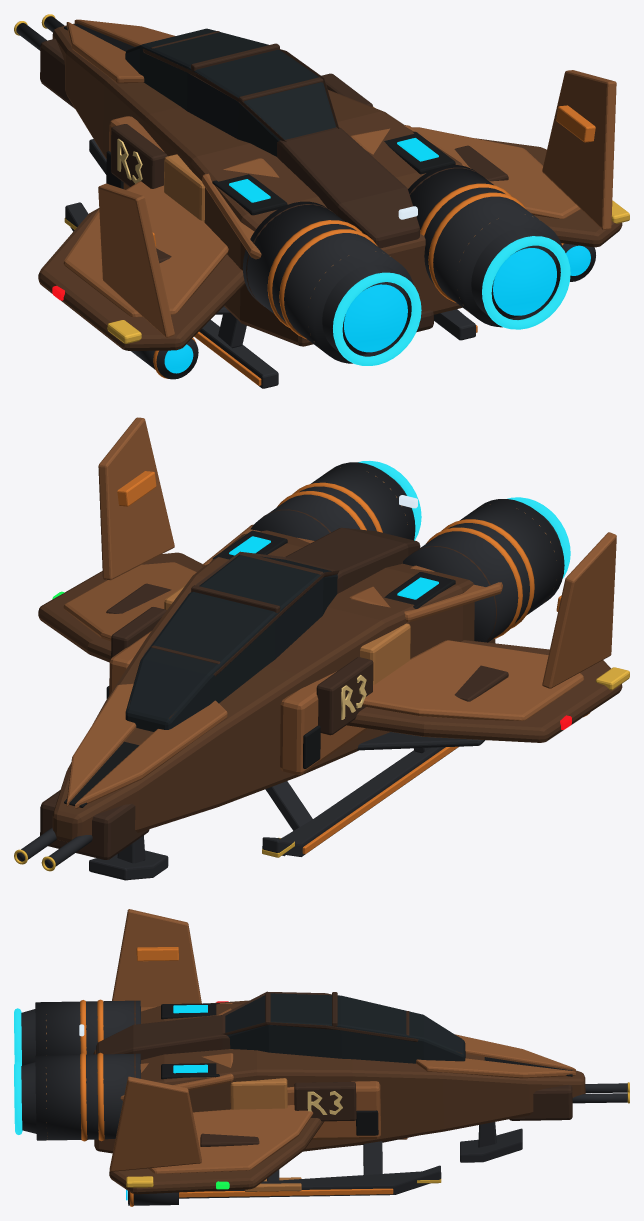
The model's file is raider3.glb.
3 views of the same model, one above another, from view 1: azimuth 30°, elevation 25°; view 2: azimuth 150°, elevation 25°; view 3: azimuth 270°, elevation 25° (orthographic). The views are drawn at different scales.
Visible parts, largest first — view 1: Static_Raider3BrownArmor, Static_Raider3UmberHull, Static_EngineIron, Static_Raider3DarkArmor, Canopy, Static_Raider3BurntOrange, ThrusterR, ThrusterL, Static_Raider3Recess, AfterburnerR, AfterburnerL, Static_Raider3WarmArmor (+5 smaller); view 2: Static_Raider3BrownArmor, Static_Raider3UmberHull, Static_EngineIron, Canopy, Static_Raider3DarkArmor, Static_Raider3BurntOrange, Static_Raider3Recess, Static_Raider3WarmArmor, Static_SystemsGlow, Static_Raider3OchreDetail, AfterburnerL, AfterburnerR; view 3: Static_Raider3BrownArmor, Static_Raider3UmberHull, Static_EngineIron, Canopy, Static_Raider3DarkArmor, Static_Raider3BurntOrange, Static_Raider3WarmArmor, Static_Raider3Recess, AfterburnerR, Static_SystemsGlow, Static_Raider3OchreDetail, AfterburnerL.
Boxes of the visible parts, bbox=[...] form: Static_Raider3BrownArmor: bbox=[63, 19, 616, 337]; Static_Raider3UmberHull: bbox=[38, 23, 622, 350]; Static_EngineIron: bbox=[16, 16, 595, 388]; Static_Raider3DarkArmor: bbox=[40, 31, 508, 332]; Canopy: bbox=[125, 28, 335, 156]; Static_Raider3BurntOrange: bbox=[152, 105, 595, 385]; ThrusterR: bbox=[493, 248, 556, 315]; ThrusterL: bbox=[344, 284, 407, 352]; Static_Raider3Recess: bbox=[64, 23, 455, 215]; AfterburnerR: bbox=[482, 236, 570, 329]; AfterburnerL: bbox=[333, 272, 421, 365]; Static_Raider3WarmArmor: bbox=[164, 107, 532, 348]; Static_Raider3BrownArmor: bbox=[63, 417, 616, 808]; Static_Raider3UmberHull: bbox=[38, 530, 622, 842]; Static_EngineIron: bbox=[17, 462, 564, 880]; Canopy: bbox=[125, 555, 337, 731]; Static_Raider3DarkArmor: bbox=[40, 509, 508, 859]; Static_Raider3BurntOrange: bbox=[117, 471, 590, 854]; Static_Raider3Recess: bbox=[64, 530, 455, 807]; Static_Raider3WarmArmor: bbox=[164, 467, 556, 684]; Static_SystemsGlow: bbox=[229, 536, 438, 599]; Static_Raider3OchreDetail: bbox=[14, 667, 629, 871]; AfterburnerL: bbox=[507, 497, 570, 578]; AfterburnerR: bbox=[358, 461, 421, 540]; Static_Raider3BrownArmor: bbox=[109, 909, 575, 1173]; Static_Raider3UmberHull: bbox=[93, 1000, 585, 1194]; Static_EngineIron: bbox=[21, 1000, 627, 1205]; Canopy: bbox=[225, 993, 465, 1063]; Static_Raider3DarkArmor: bbox=[96, 991, 572, 1147]; Static_Raider3BurntOrange: bbox=[80, 947, 393, 1206]; Static_Raider3WarmArmor: bbox=[46, 1014, 301, 1191]; Static_Raider3Recess: bbox=[161, 1003, 572, 1135]; AfterburnerR: bbox=[14, 1061, 22, 1134]; Static_SystemsGlow: bbox=[173, 1005, 207, 1073]; Static_Raider3OchreDetail: bbox=[126, 1082, 629, 1187]; AfterburnerL: bbox=[14, 1008, 21, 1065].
Size of the model in its own units: 7.01 by 3 by 9.97.
